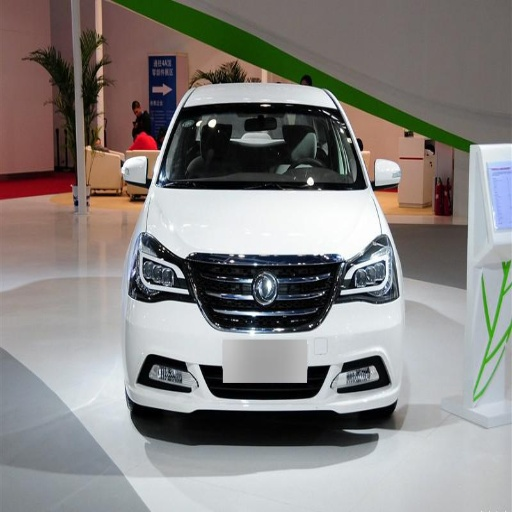front_bumper: (124, 258, 405, 414)
front_right_light: (129, 233, 191, 301)
hood: (147, 187, 380, 261)
